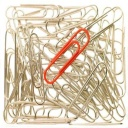Metal: (35, 22, 96, 95)
